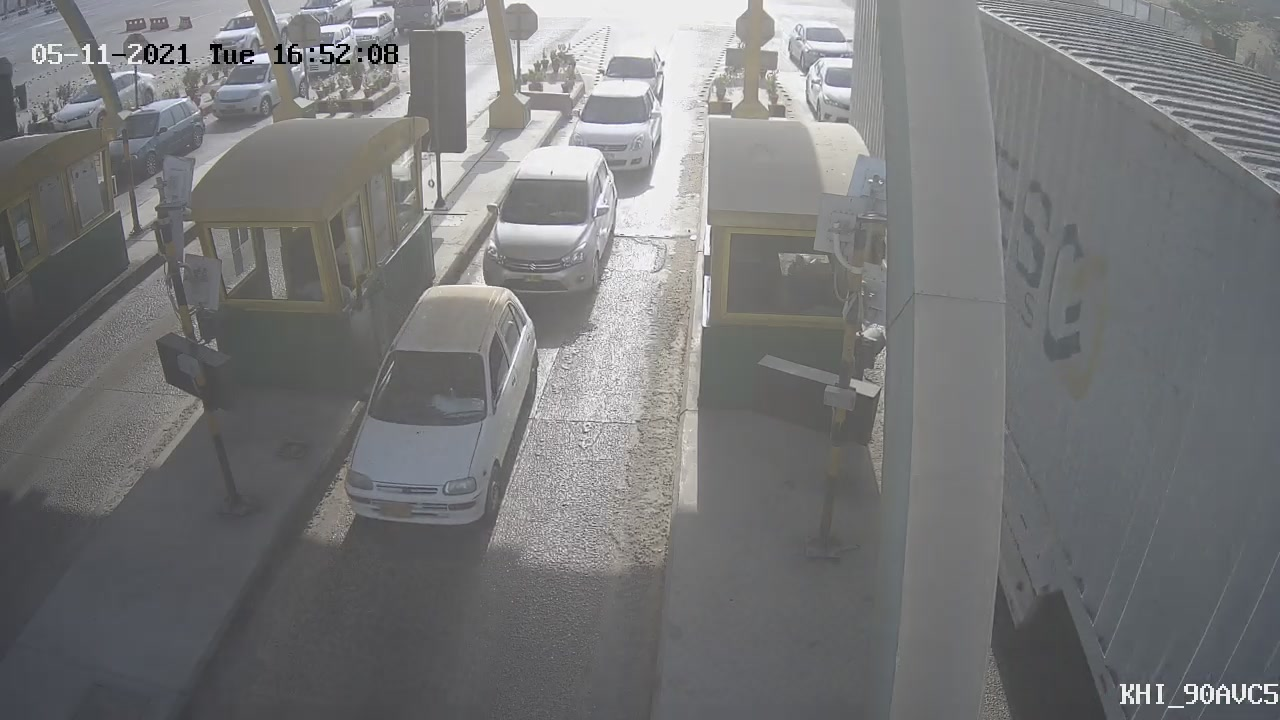F1: (321, 265, 560, 553), (472, 130, 635, 312), (548, 68, 682, 185)
